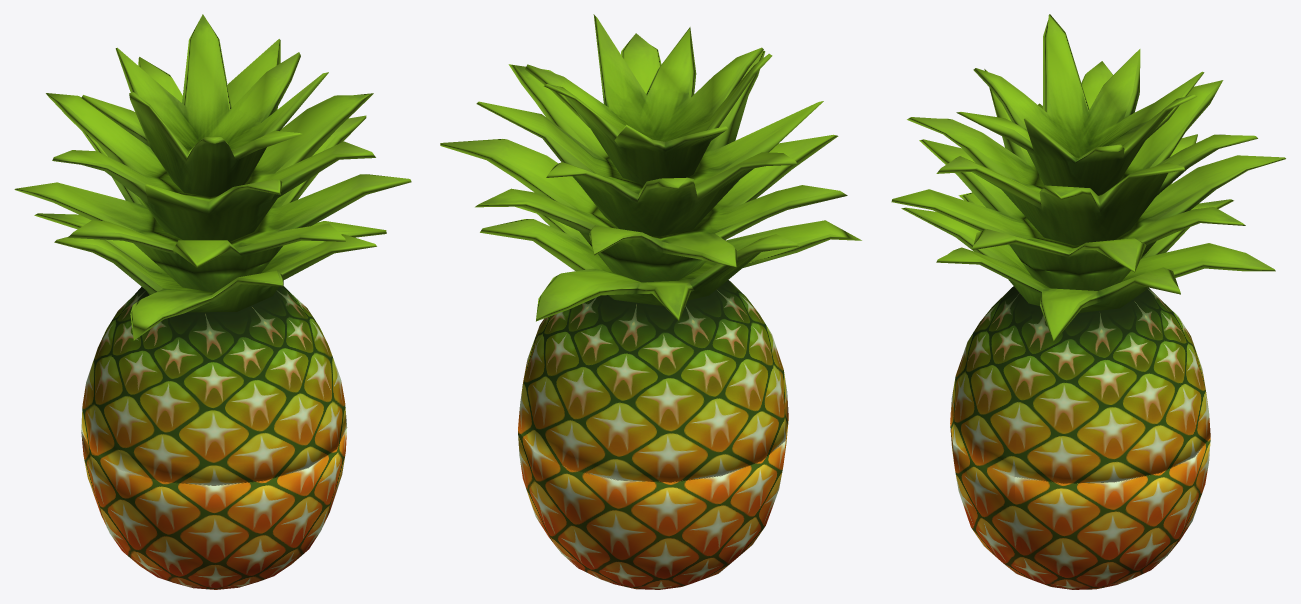
File: pineApple-cut.glb
The picture shows the model from 3 angles, left to right: view 1: azimuth 30°, elevation 25°; view 2: azimuth 150°, elevation 25°; view 3: azimuth 270°, elevation 25°; orthographic projection. The views are drawn at different scales.
Parts seen in each view (by area): view 1: object_0, object_0.001; view 2: object_0, object_0.001; view 3: object_0, object_0.001.
Boxes of the visible parts, box(x1,y1,x2,y2) form: object_0: box(14, 14, 411, 485); object_0.001: box(81, 427, 347, 589); object_0: box(440, 14, 861, 482); object_0.001: box(518, 420, 788, 589); object_0: box(891, 14, 1285, 483); object_0.001: box(950, 426, 1210, 589).
Bounding box in the file's own units: 0.6702 × 0.9522 × 0.6657.
Materials: 1 (1 with a texture image).
